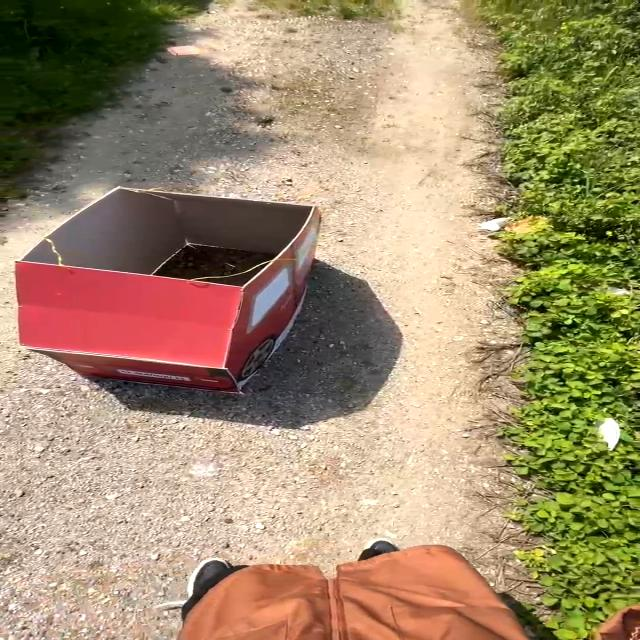red_car: (0, 179, 393, 410)
